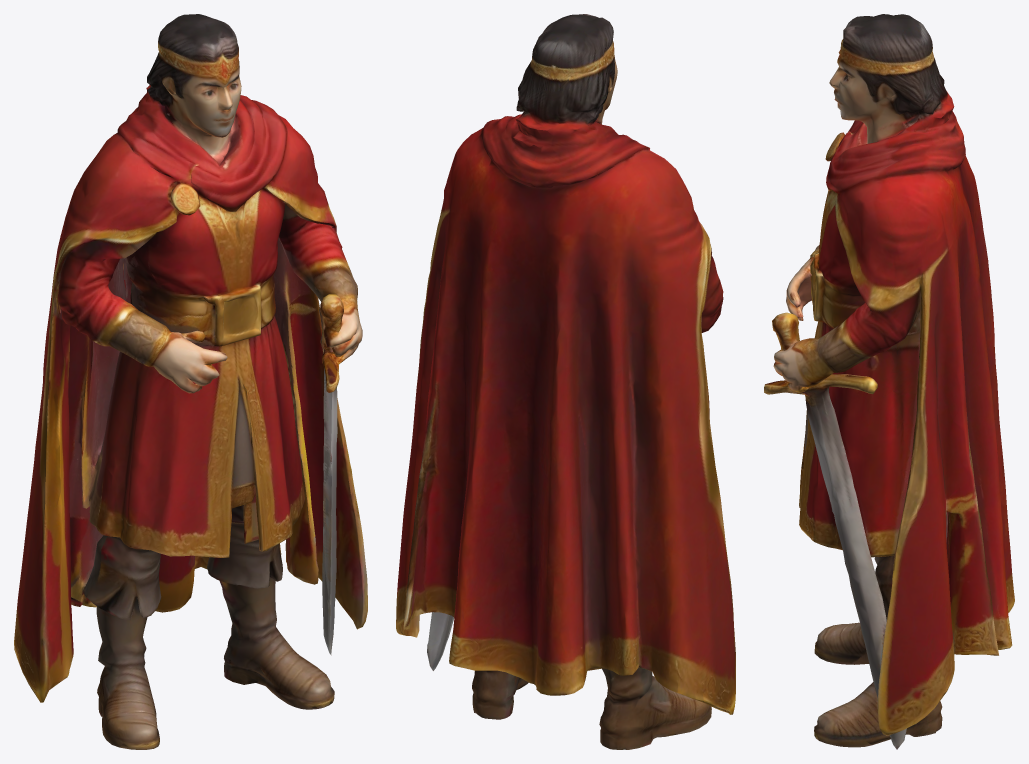
3 renders of one model, left to right at view 1: azimuth 30°, elevation 25°; view 2: azimuth 150°, elevation 25°; view 3: azimuth 270°, elevation 25°, orthographic. The views are drawn at different scales.
Visible parts, largest first — view 1: Good king; view 2: Good king; view 3: Good king.
Boxes of the visible parts, bbox=[...] form: Good king: bbox=[14, 14, 367, 749]; Good king: bbox=[396, 14, 735, 749]; Good king: bbox=[764, 14, 1014, 749].
Size of the model in its own units: 0.9897 by 2 by 0.671.
1 material, 1 textured.
